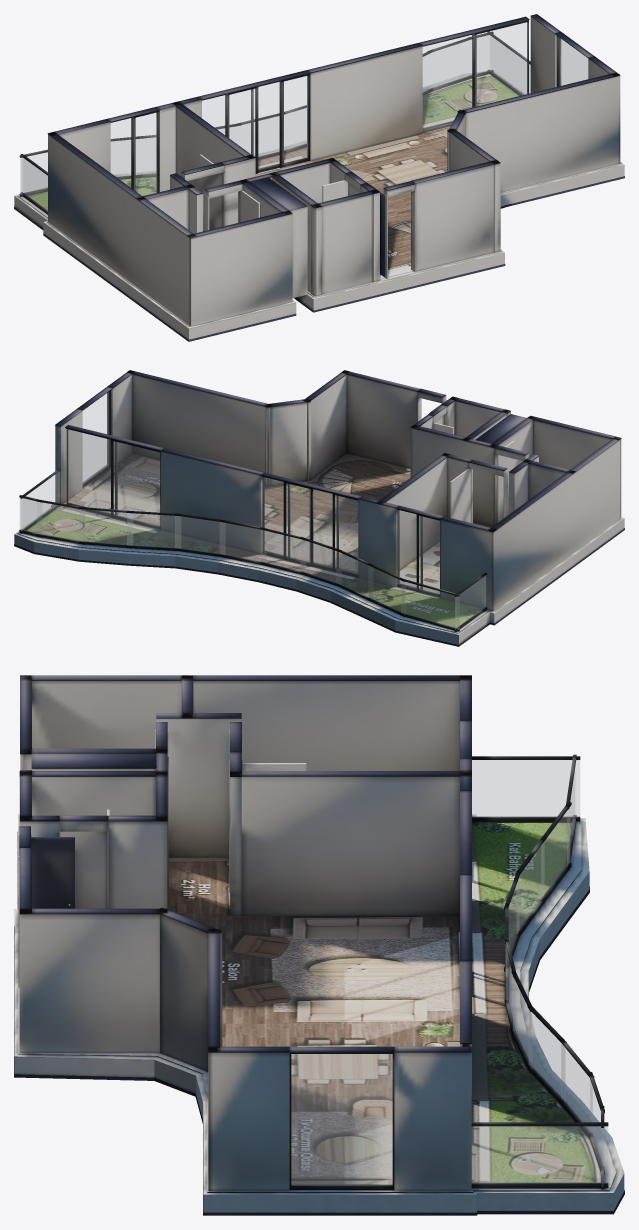
3 renders of one model, top to bottom at view 1: azimuth 30°, elevation 25°; view 2: azimuth 150°, elevation 25°; view 3: azimuth 270°, elevation 25°, orthographic. The views are drawn at different scales.
Parts seen in each view (by area): view 1: plan, glass2_m, glass1_m, glass0_m, railg11_m, railg10_m, glass3_m, railg5_m, railg12_m, railg0_m, railg6_m, railg1_m (+2 smaller); view 2: plan, glass2_m, glass1_m, glass0_m, railg0_m, glass3_m, railg8_m, railg9_m, railg7_m, railg10_m, railg6_m, railg5_m (+6 smaller); view 3: plan, glass3_m, railg11_m, railg12_m, railg8_m, railg9_m, railg1_m, railg2_m, railg7_m.
Boxes of the visible parts, box(x1,y1,x2,y2) form: plan: box(14, 14, 624, 341); glass2_m: box(423, 22, 526, 129); glass1_m: box(202, 76, 307, 169); glass0_m: box(111, 113, 156, 195); railg11_m: box(490, 36, 530, 94); railg10_m: box(433, 41, 468, 87); glass3_m: box(559, 37, 587, 85); railg5_m: box(241, 116, 278, 156); railg12_m: box(22, 158, 47, 210); railg0_m: box(20, 152, 47, 193); railg6_m: box(285, 108, 306, 149); railg1_m: box(111, 140, 130, 176); plan: box(14, 370, 624, 646); glass2_m: box(66, 429, 159, 525); glass1_m: box(263, 477, 357, 573); glass0_m: box(398, 510, 439, 593); railg0_m: box(401, 581, 459, 628); glass3_m: box(83, 392, 108, 483); railg8_m: box(127, 513, 180, 548); railg9_m: box(79, 509, 132, 545); railg7_m: box(175, 516, 225, 554); railg10_m: box(37, 502, 85, 541); railg6_m: box(220, 522, 266, 562); railg5_m: box(261, 530, 305, 572); plan: box(14, 675, 624, 1215); glass3_m: box(291, 1054, 392, 1185); railg11_m: box(472, 1126, 607, 1183); railg12_m: box(472, 760, 579, 817); railg8_m: box(529, 1010, 565, 1101); railg9_m: box(561, 1043, 592, 1133); railg1_m: box(541, 808, 569, 900); railg2_m: box(517, 842, 544, 933); railg7_m: box(513, 977, 531, 1068).
Size of the model in its own units: 13.24 by 2.62 by 8.97.
2 materials, 1 textured.
